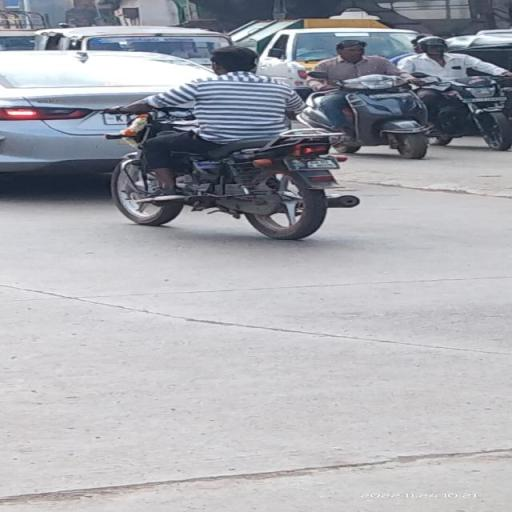bike: (104, 42, 364, 243)
withouthelmet: (211, 48, 257, 73)
